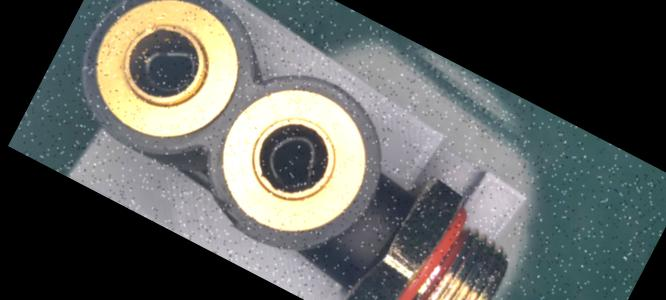bump: (200, 188, 254, 231)
off-centered: (254, 123, 334, 199), (126, 31, 207, 106)
white mark: (373, 214, 393, 233)
